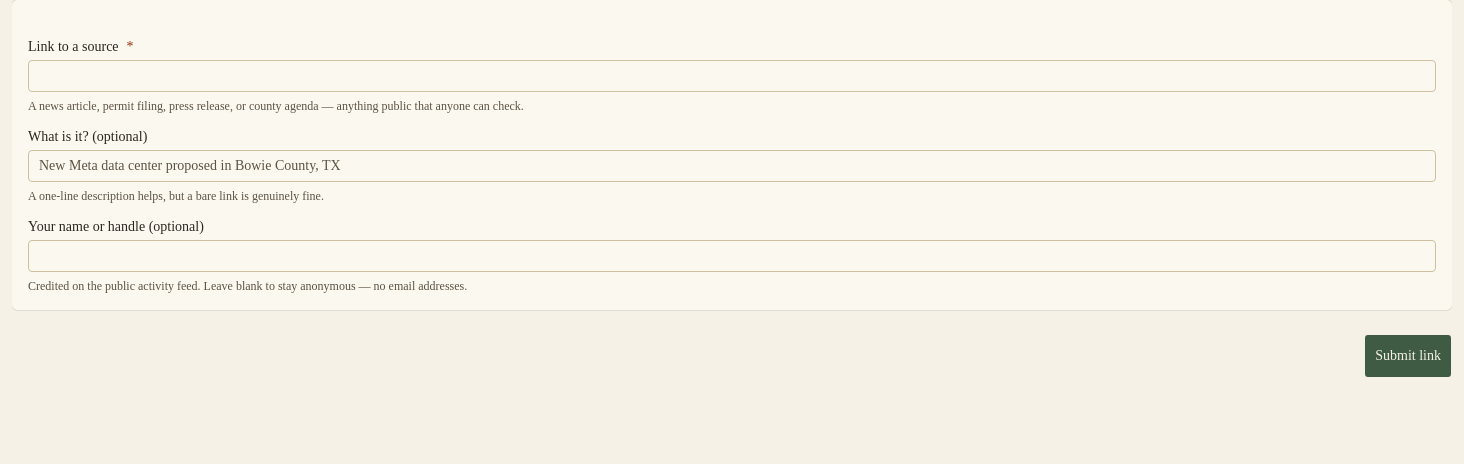
ContributeLeadForm — submit outcomes › surfaces a field-level error from a 400 response's issues array, next to the right input
Type "javascript:alert(1)" into the field labelled "Link to a source *" at coordinates (732, 76), box [28, 60, 1436, 92]
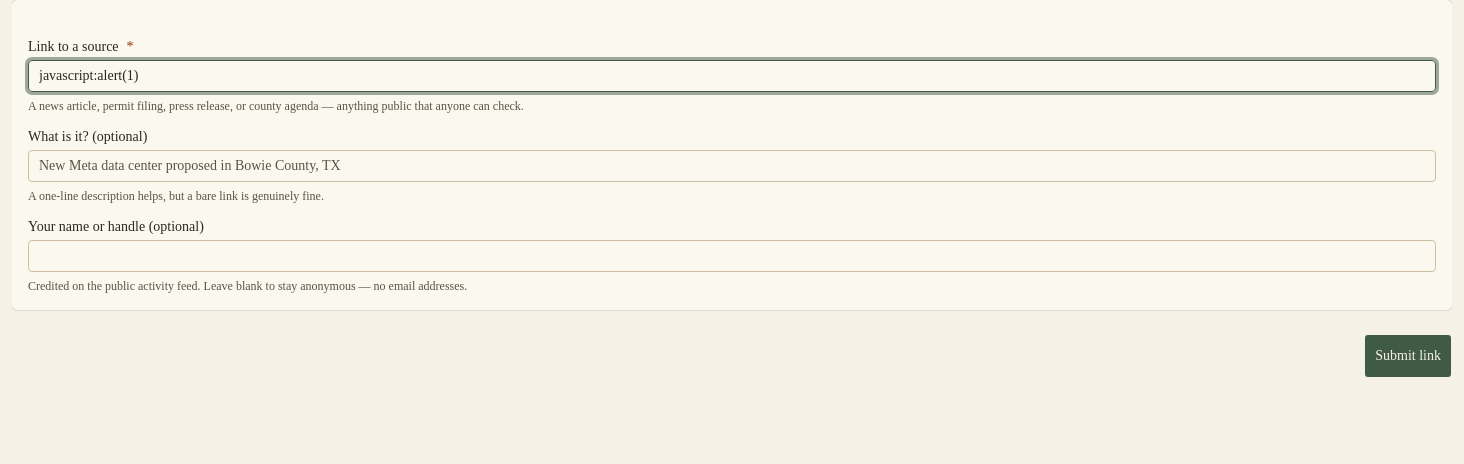
Click the button "Submit link" at coordinates (1408, 356), box [1364, 334, 1452, 378]
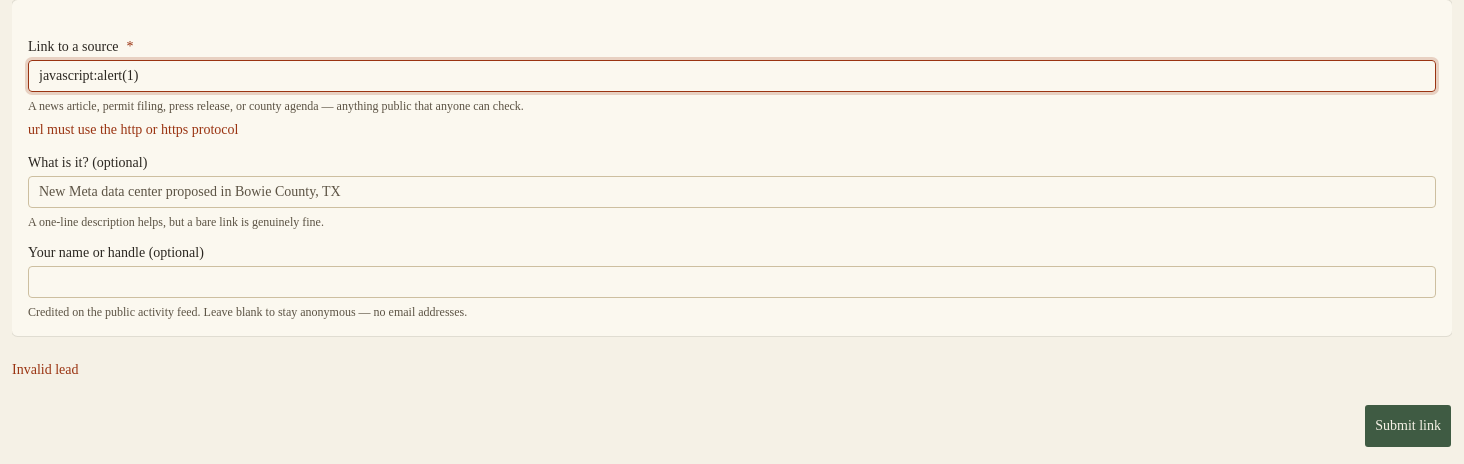
expect the text "url must use the http or https protocol" is shown: met, box [28, 122, 238, 137]
